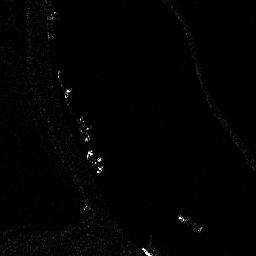ship: (177, 213, 203, 231)
